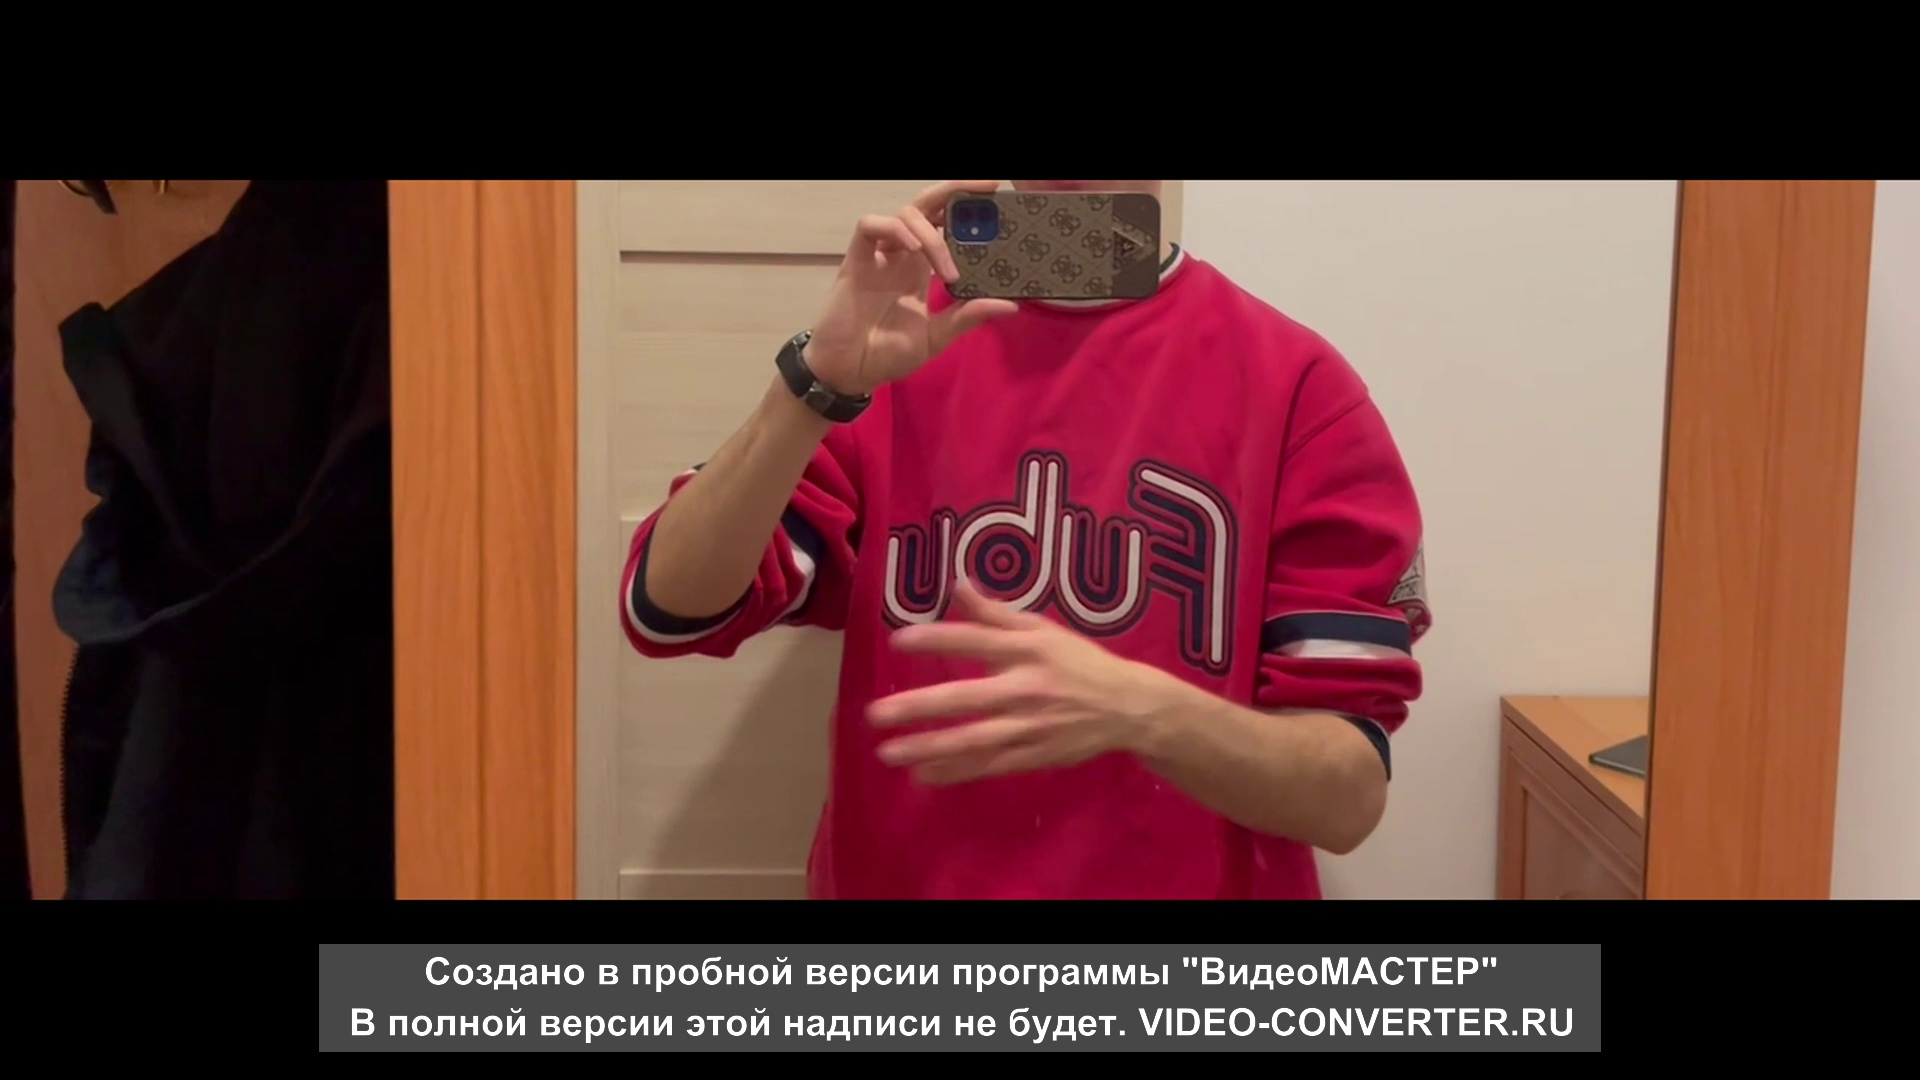Кисть: (870, 579, 1124, 786)
